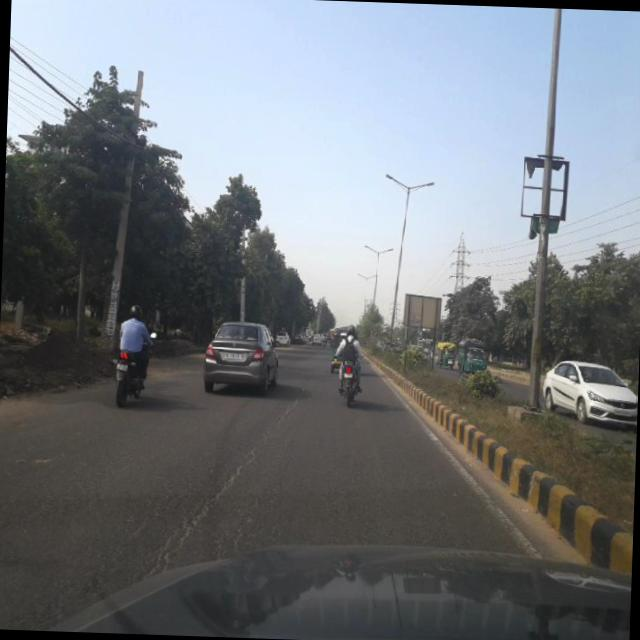pothole: (154, 389, 293, 573)
